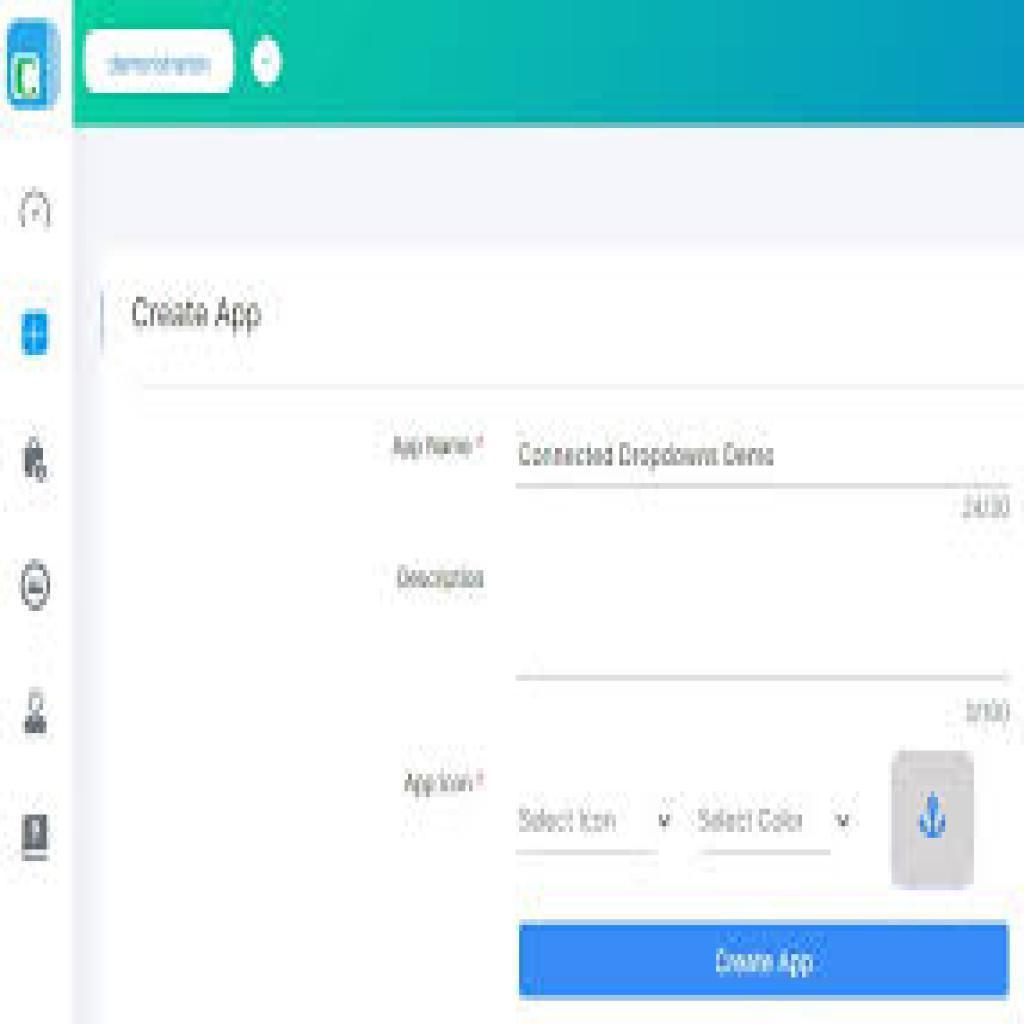button: (520, 922, 1010, 998)
icon: (13, 809, 57, 869), (16, 556, 55, 619), (14, 186, 58, 238), (16, 303, 53, 363), (14, 432, 54, 487), (19, 684, 53, 741)
